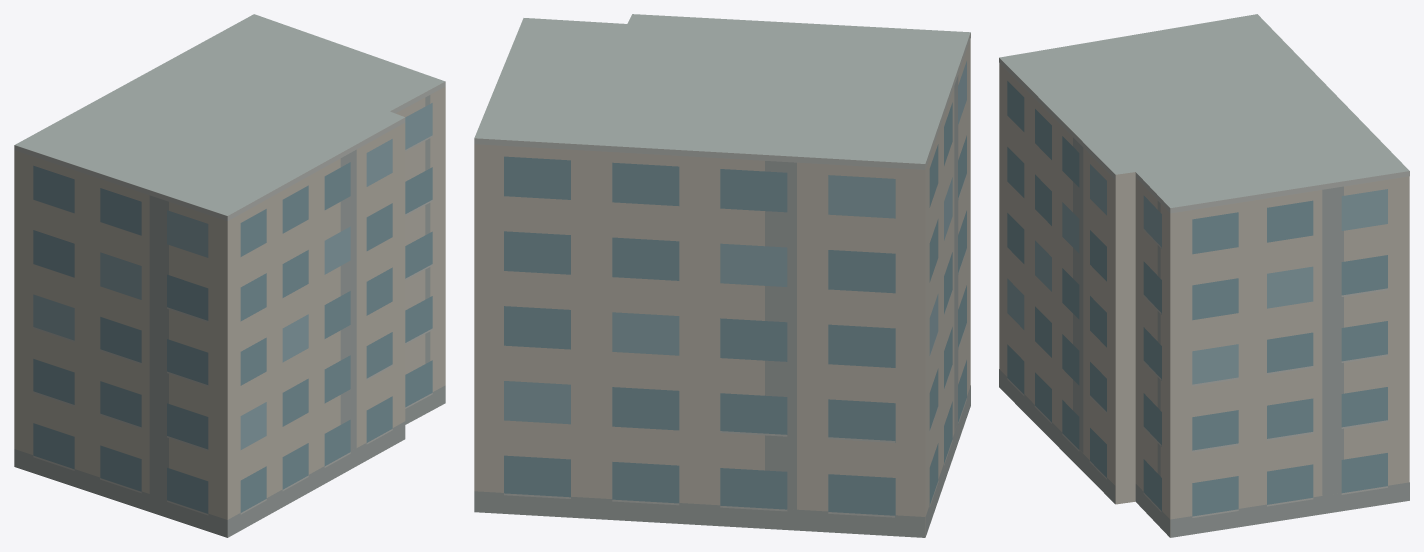
File: survey-upis-32845573.glb
The picture shows the model from 3 angles, left to right: view 1: azimuth 30°, elevation 25°; view 2: azimuth 150°, elevation 25°; view 3: azimuth 270°, elevation 25°; orthographic projection. The views are drawn at different scales.
Parts seen in each view (by area): view 1: survey-upis-32845573.tmp; view 2: survey-upis-32845573.tmp; view 3: survey-upis-32845573.tmp.
Part boxes in pixels (box(x1,y1,x2,y2)): survey-upis-32845573.tmp: box(14, 14, 445, 537); survey-upis-32845573.tmp: box(474, 14, 970, 537); survey-upis-32845573.tmp: box(999, 14, 1409, 537).
Size of the model in its own units: 19.46 by 15.4 by 17.39.
